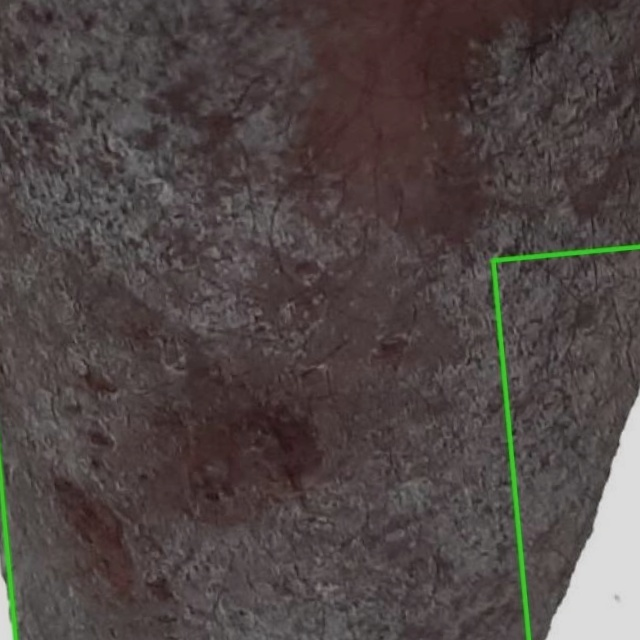Contact Dermatitis: (493, 246, 639, 639)
